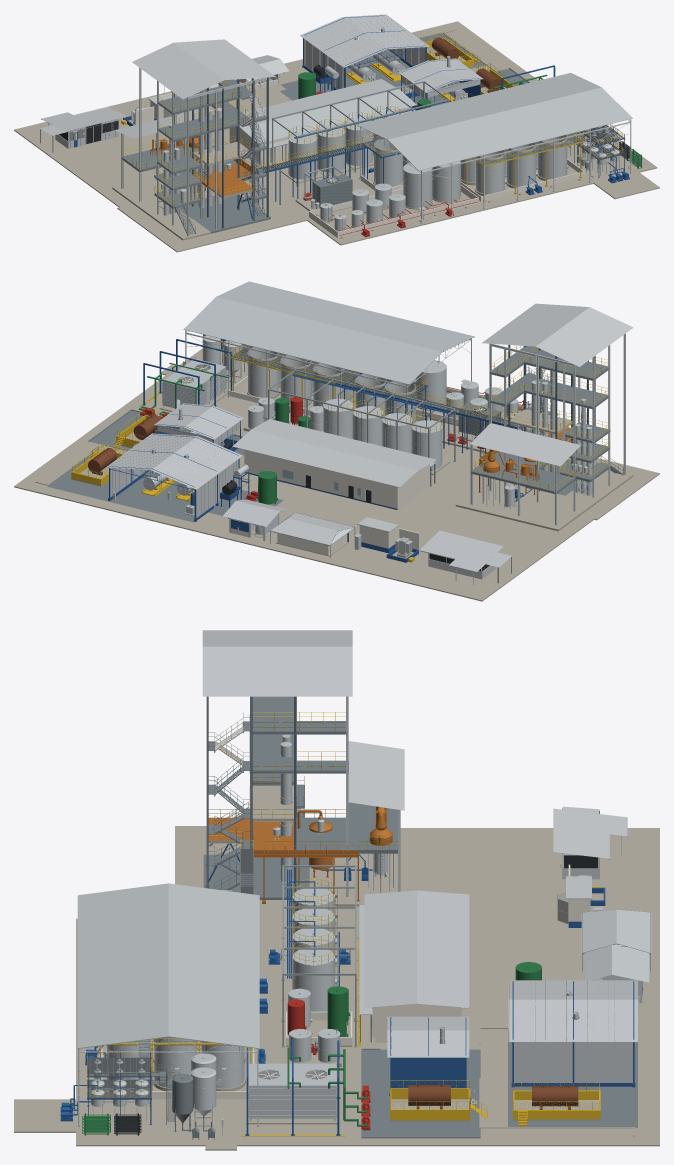
File: planta-integrada.glb
3 views of the same model, one above another, from view 1: azimuth 30°, elevation 25°; view 2: azimuth 150°, elevation 25°; view 3: azimuth 270°, elevation 25° (orthographic). The views are drawn at different scales.
Parts seen in each view (by area): view 1: DUSA (×7), REF Cubierta comun (×2), Suelo VOCATUS, REF Detalle (×6), REF Fermentacion (×4), REF Almacenamiento alcohol (×3), FBX Administracion (×2), REF Cuatro tanques detalle (×3), REF Sector completo sur, VOCATUS Enlace destilacion (×3), FBX Bodega quimicos (×2), REF Semilleros y pies de cuba (×3) (+7 smaller); view 2: DUSA (×7), Suelo VOCATUS, REF Cubierta comun (×2), REF Detalle (×4), FBX Administracion (×2), REF Cuatro tanques detalle (×3), REF Fermentacion (×3), REF Agua y enfriamiento (×4), REF Plano ampliacion, FBX Bodega quimicos, REF Almacenamiento alcohol, FBX Banos (×2) (+10 smaller); view 3: Suelo VOCATUS, DUSA (×7), REF Cubierta comun (×2), REF Detalle (×4), FBX Administracion (×2), REF Cuatro tanques detalle (×6), REF Agua y enfriamiento (×4), REF Sector completo sur, REF Semilleros y pies de cuba (×2), REF Detras ADMIN, REF Fermentacion, FBX Bodega quimicos (+6 smaller).
Part boxes in pixels (x1,y1,x2,y2): DUSA (×7): (112, 39, 275, 240); REF Cubierta comun (×2): (357, 73, 632, 224); Suelo VOCATUS: (14, 21, 659, 252); REF Detalle (×6): (300, 14, 517, 110); REF Fermentacion (×4): (360, 132, 584, 201); REF Almacenamiento alcohol (×3): (309, 160, 478, 237); FBX Administracion (×2): (229, 79, 416, 165); REF Cuatro tanques detalle (×3): (270, 81, 449, 190); REF Sector completo sur: (280, 133, 651, 242); VOCATUS Enlace destilacion (×3): (237, 137, 367, 218); FBX Bodega quimicos (×2): (39, 107, 127, 148); REF Semilleros y pies de cuba (×3): (567, 124, 624, 175); DUSA (×7): (455, 303, 633, 531); Suelo VOCATUS: (14, 348, 659, 601); REF Cubierta comun (×2): (183, 281, 474, 415); REF Detalle (×4): (105, 403, 243, 521); FBX Administracion (×2): (232, 419, 436, 509); REF Cuatro tanques detalle (×3): (268, 369, 456, 480); REF Fermentacion (×3): (230, 344, 415, 423); REF Agua y enfriamiento (×4): (133, 339, 275, 431); REF Plano ampliacion: (47, 452, 224, 522); FBX Bodega quimicos: (419, 530, 511, 579); REF Almacenamiento alcohol: (386, 360, 531, 429); FBX Banos (×2): (270, 512, 355, 555); Suelo VOCATUS: (14, 826, 659, 1150); DUSA (×7): (202, 630, 410, 906); REF Cubierta comun (×2): (77, 883, 259, 1126); REF Detalle (×4): (387, 980, 637, 1120); FBX Administracion (×2): (359, 890, 468, 1042); REF Cuatro tanques detalle (×6): (265, 865, 360, 1049); REF Agua y enfriamiento (×4): (245, 1029, 366, 1137); REF Sector completo sur: (81, 921, 264, 1142); REF Semilleros y pies de cuba (×2): (87, 1041, 223, 1135); REF Detras ADMIN: (361, 1048, 480, 1138); REF Fermentacion: (107, 1037, 244, 1088); FBX Bodega quimicos: (553, 806, 627, 879).
Size of the model in its own units: 87.5 by 28.1 by 73.9.
